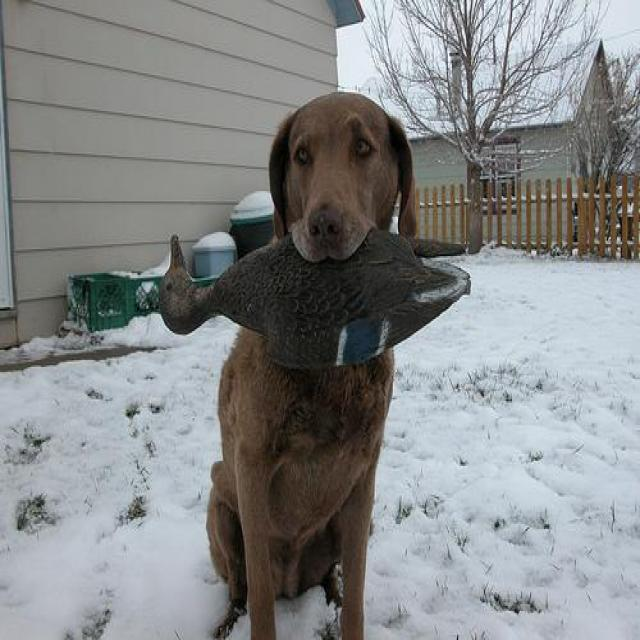sitting: (158, 87, 472, 640)
